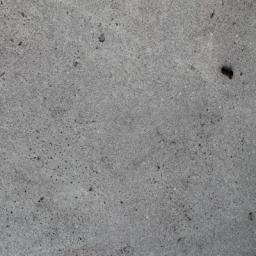FOD: (216, 61, 238, 86)
